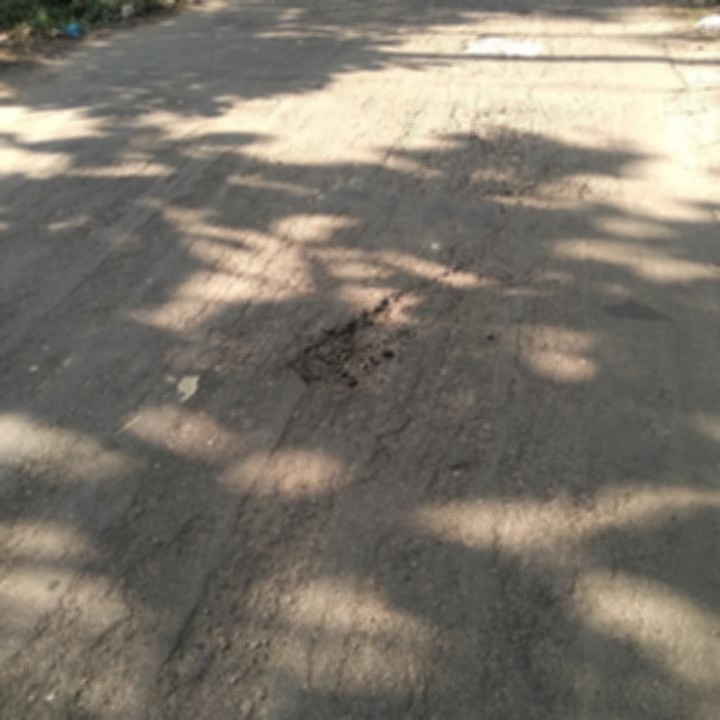pothole: (283, 289, 416, 396)
